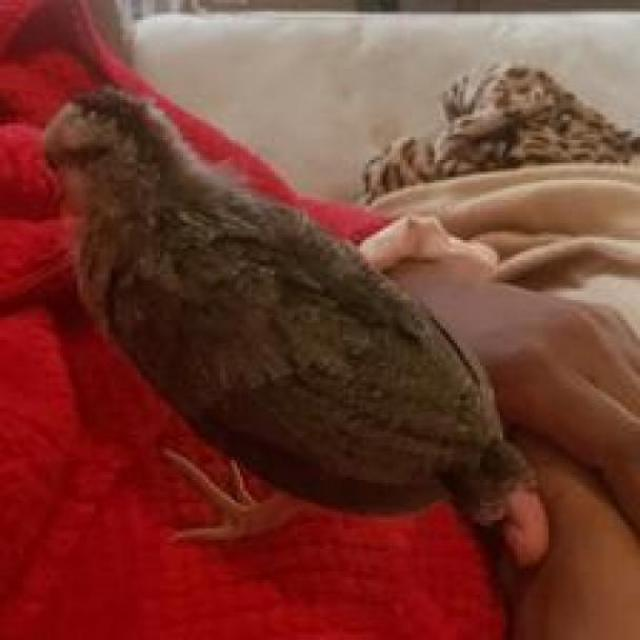Chicken: (42, 88, 589, 589)
